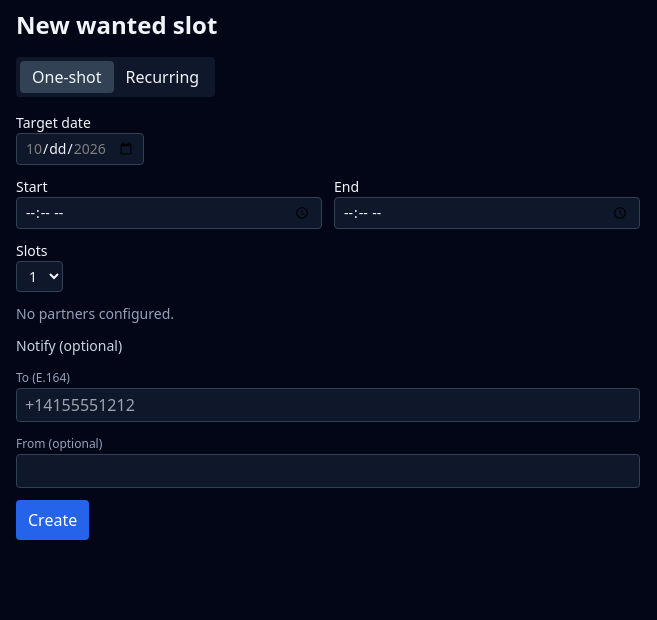
Test case: WantedNewPage › toggles to Recurring mode
Click the tab "Recurring".
click(162, 77)  # box [114, 61, 211, 93]
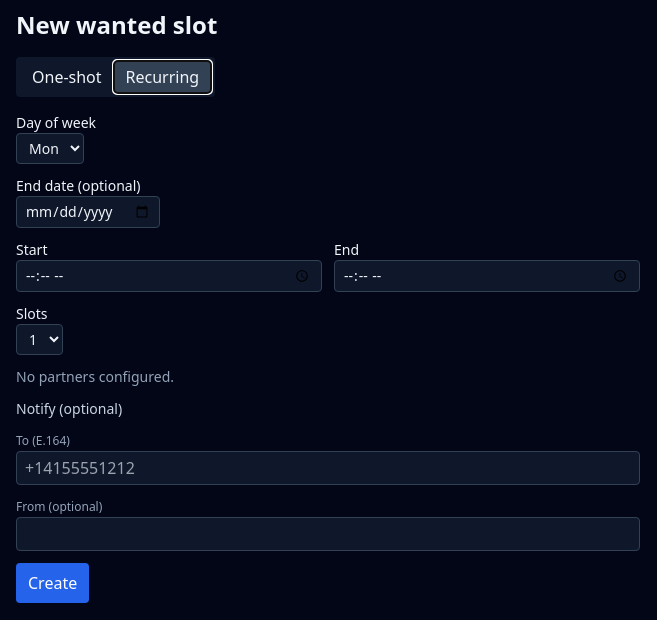
Expected: the dropdown labelled "Day of week" is shown, [16, 133, 84, 164]
